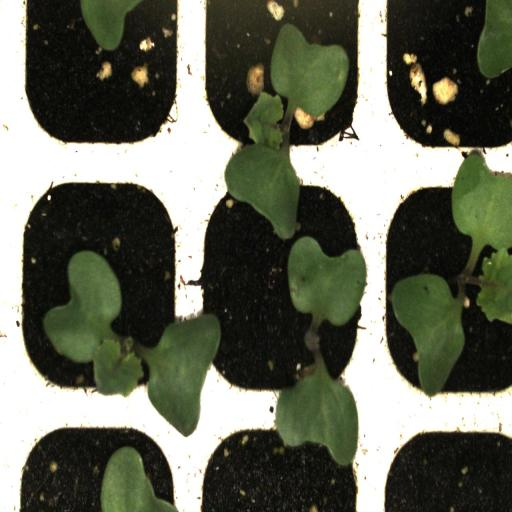seedling: (188, 163, 374, 411), (12, 164, 188, 412), (375, 161, 512, 408), (191, 2, 372, 167)
